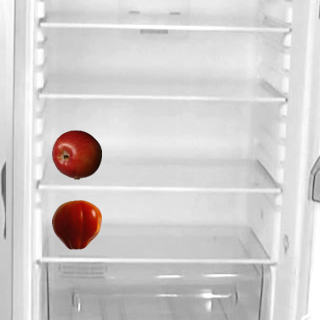Apple Braeburn: (51, 129, 101, 179)
Tomato 1: (51, 199, 101, 249)
